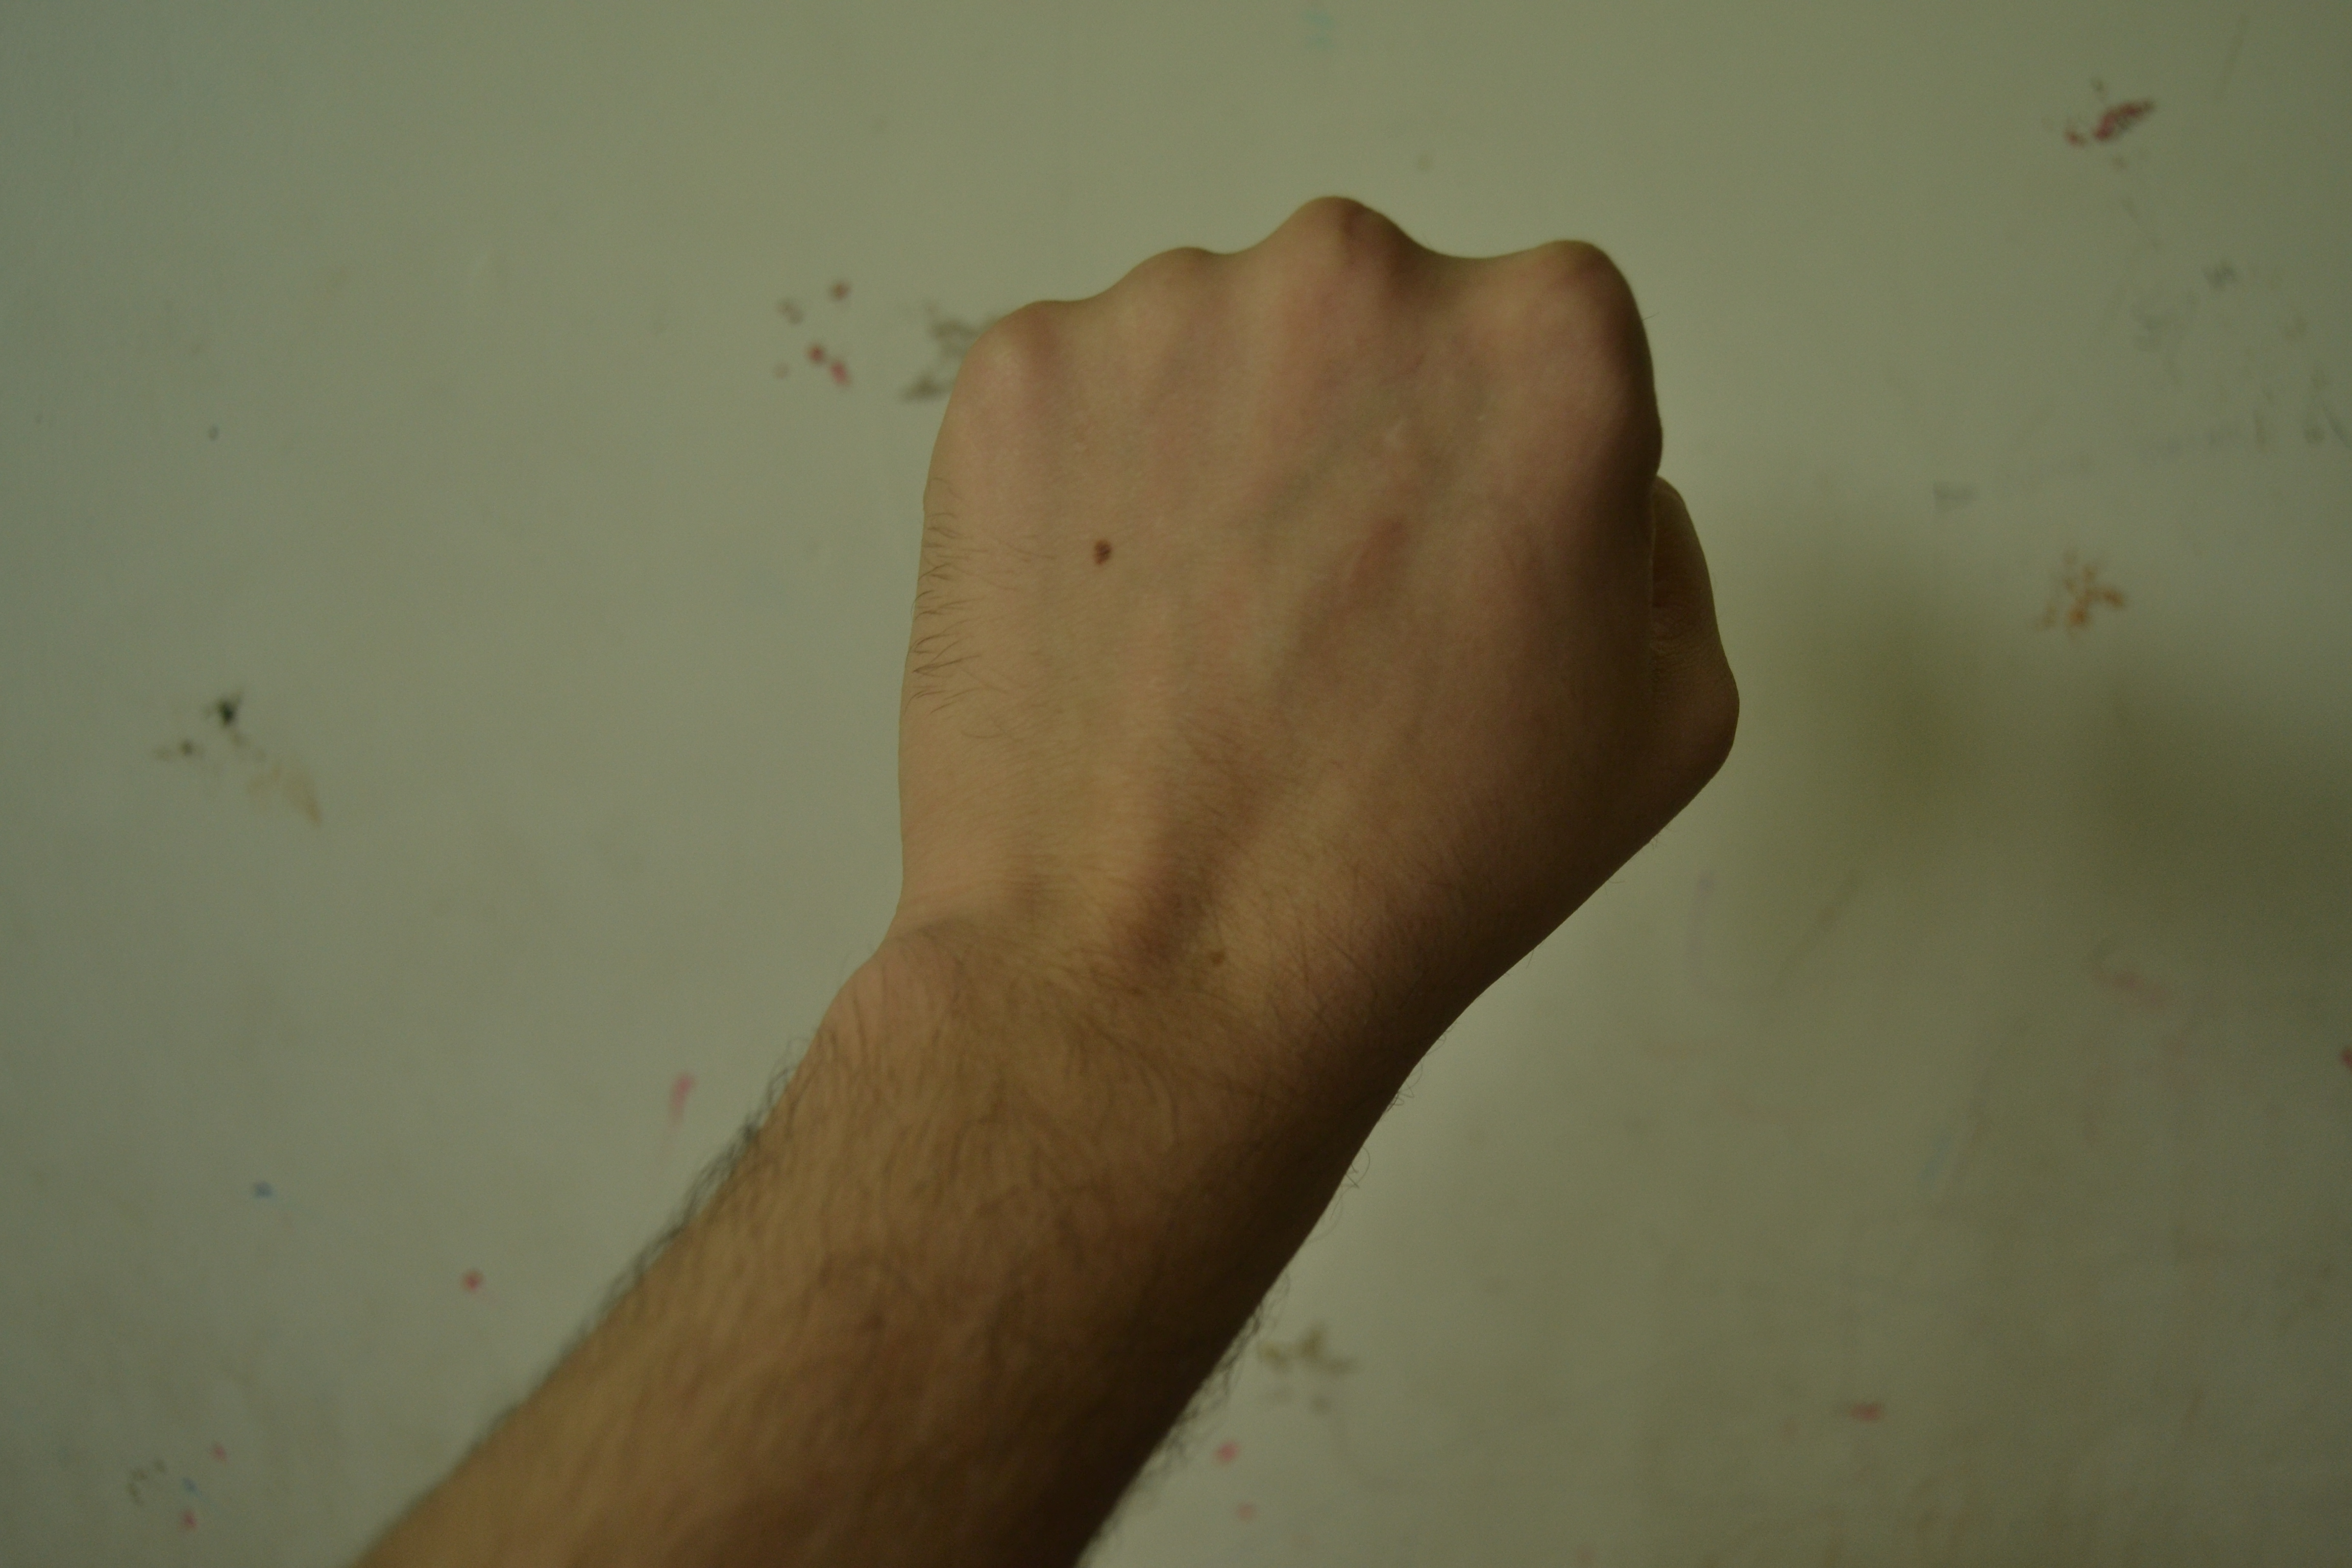click: (810, 180, 1829, 1379)
